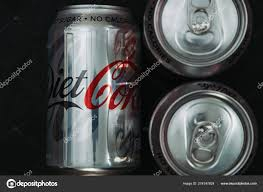can: (46, 5, 144, 169), (148, 82, 259, 176), (144, 0, 254, 77)
